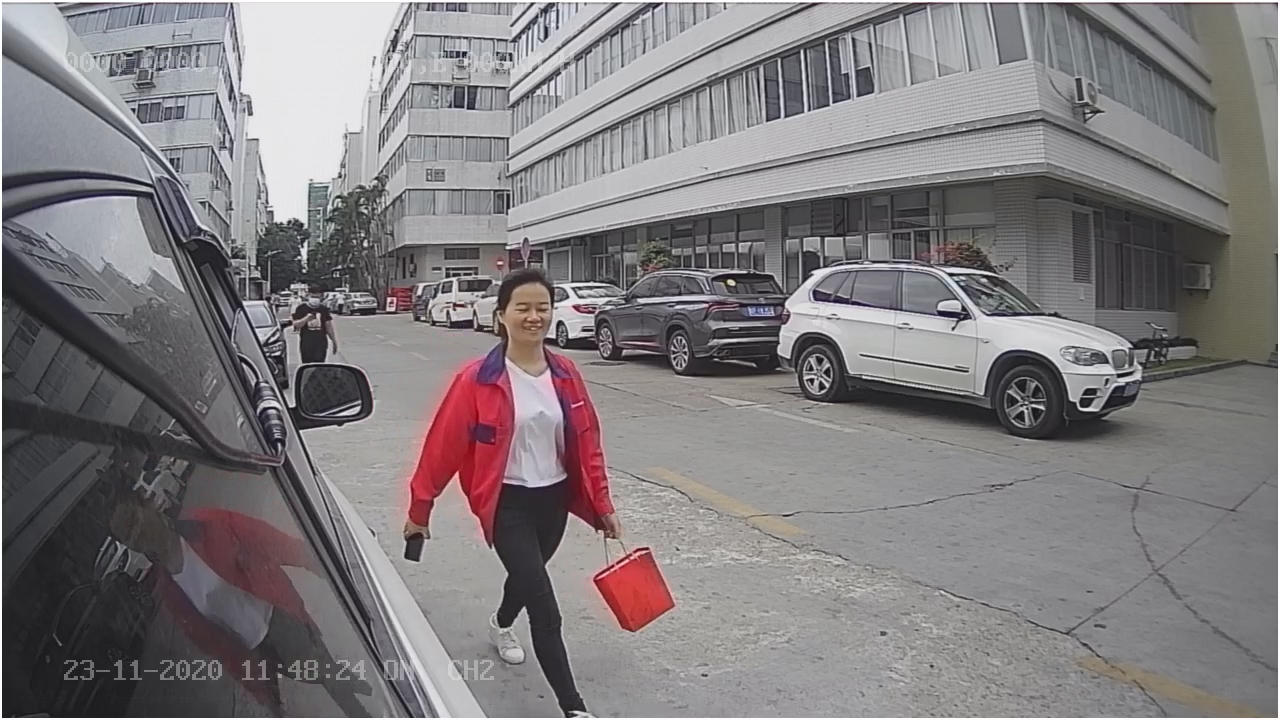person: (399, 257, 632, 543)
